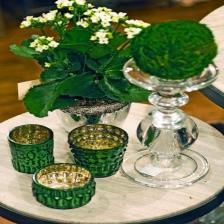green: (10, 0, 151, 117), (131, 20, 218, 79), (68, 124, 128, 178), (32, 164, 96, 210), (7, 125, 54, 174)
